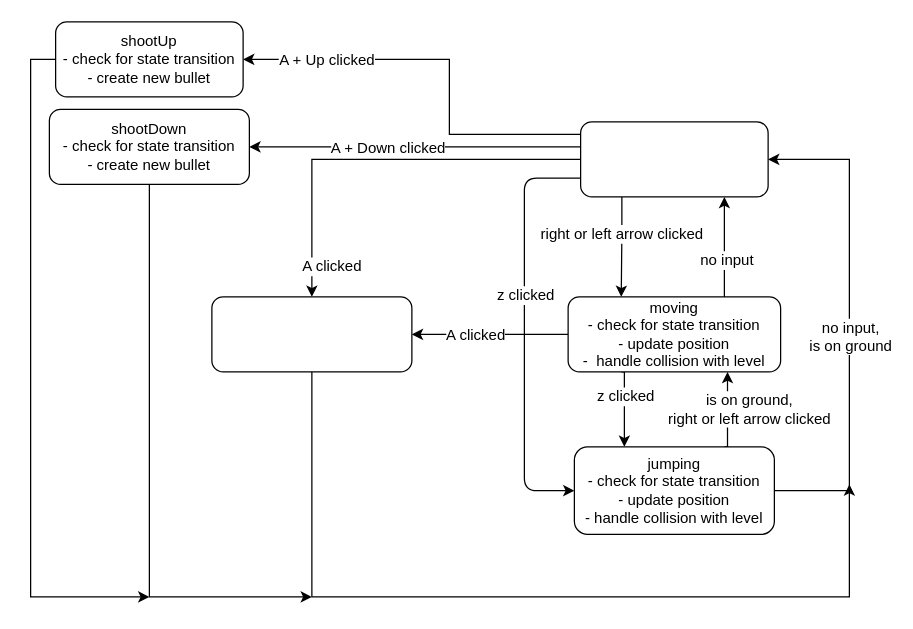
This 913x629 diagram has some shape labels left out. Each missing label, with the box of its shape:
shoot - check for state transition - create new bullet: (211, 296, 412, 372)
Wainting - check for state transition: (579, 121, 768, 197)
